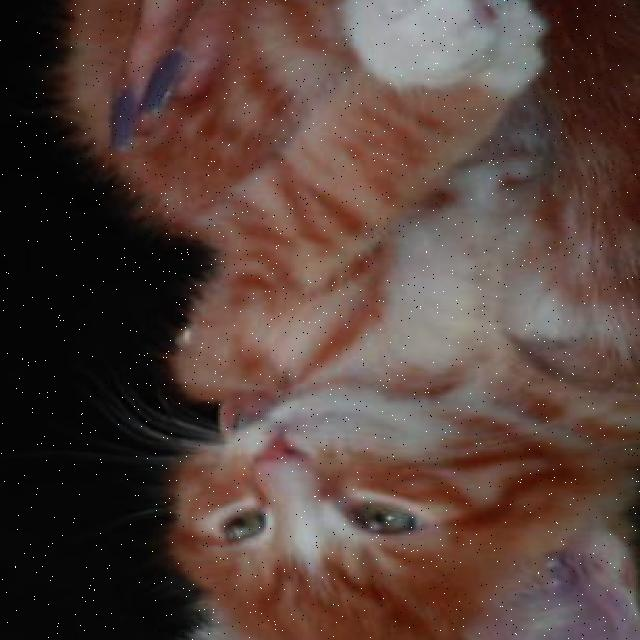Cat: (131, 359, 640, 640)
